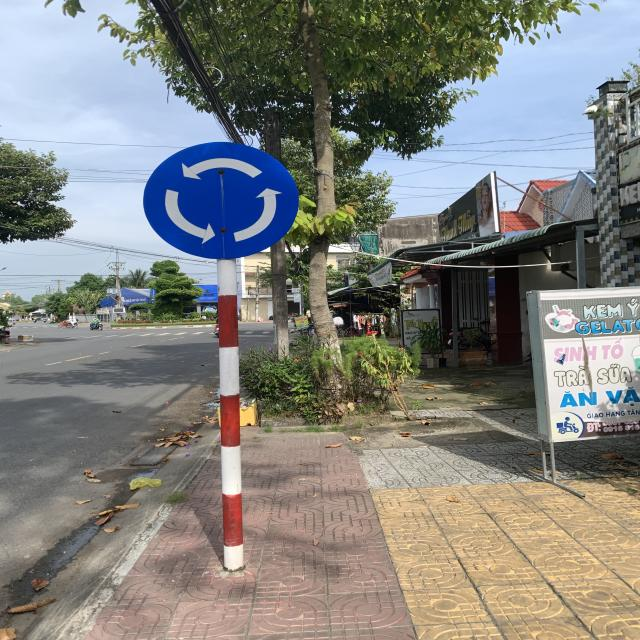Xe_Bus: (142, 141, 300, 260)
